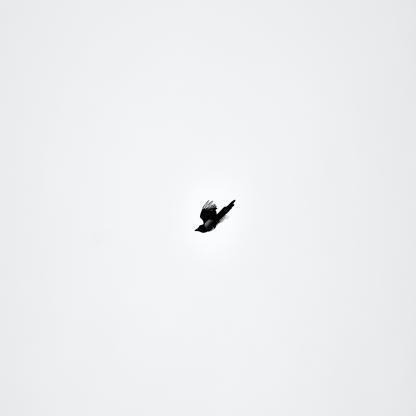bird: (195, 199, 236, 233)
